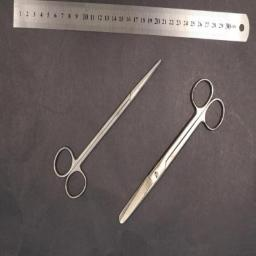Dressing Scissors: (118, 78, 226, 224)
